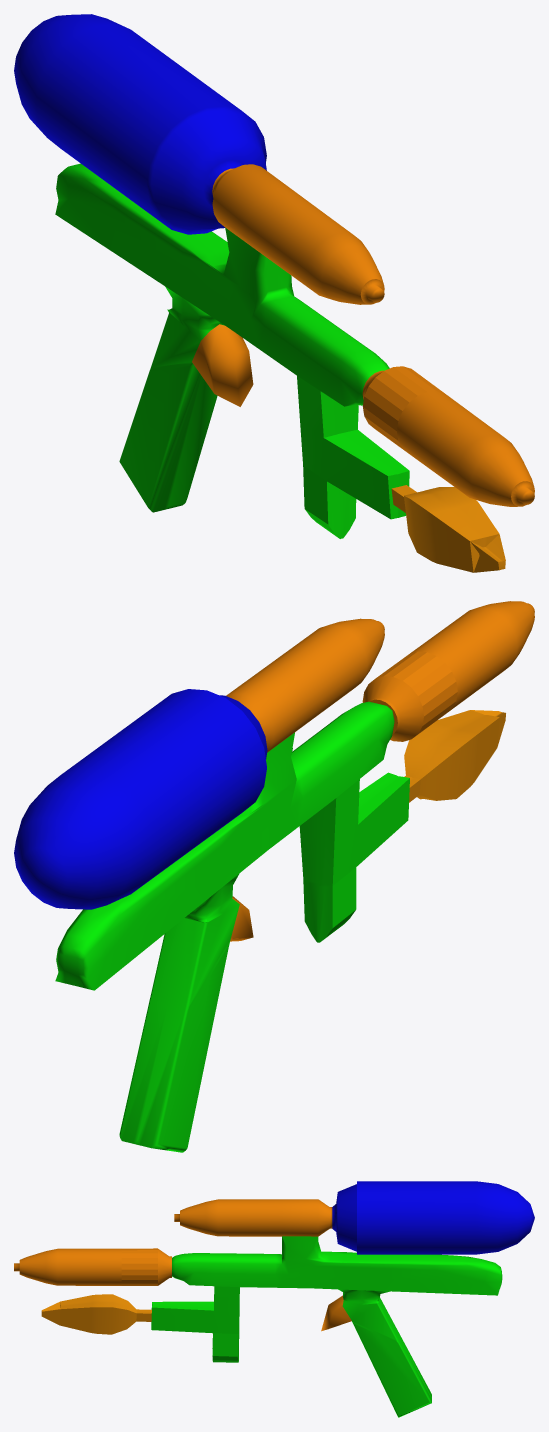
Rendered from Watergun_Weapon.fbx.
3 renders of one model, top to bottom at view 1: azimuth 30°, elevation 25°; view 2: azimuth 150°, elevation 25°; view 3: azimuth 270°, elevation 25°, orthographic. The views are drawn at different scales.
Visible parts, largest first — view 1: pCylinder4; view 2: pCylinder4; view 3: pCylinder4.
Part boxes in pixels (x1,y1,x2,y2): pCylinder4: (14,14,534,572); pCylinder4: (14,601,534,1152); pCylinder4: (14,1181,534,1417).
Size of the model in its own units: 2 by 6.84 by 14.07.
